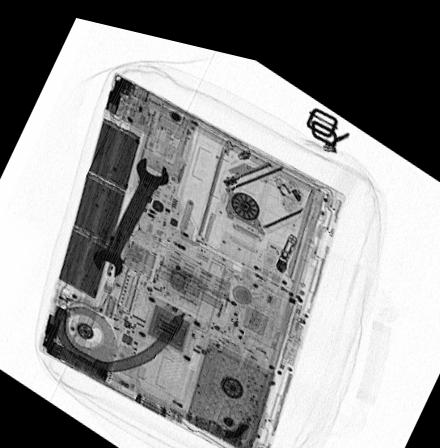Wrench: (92, 149, 169, 272)
